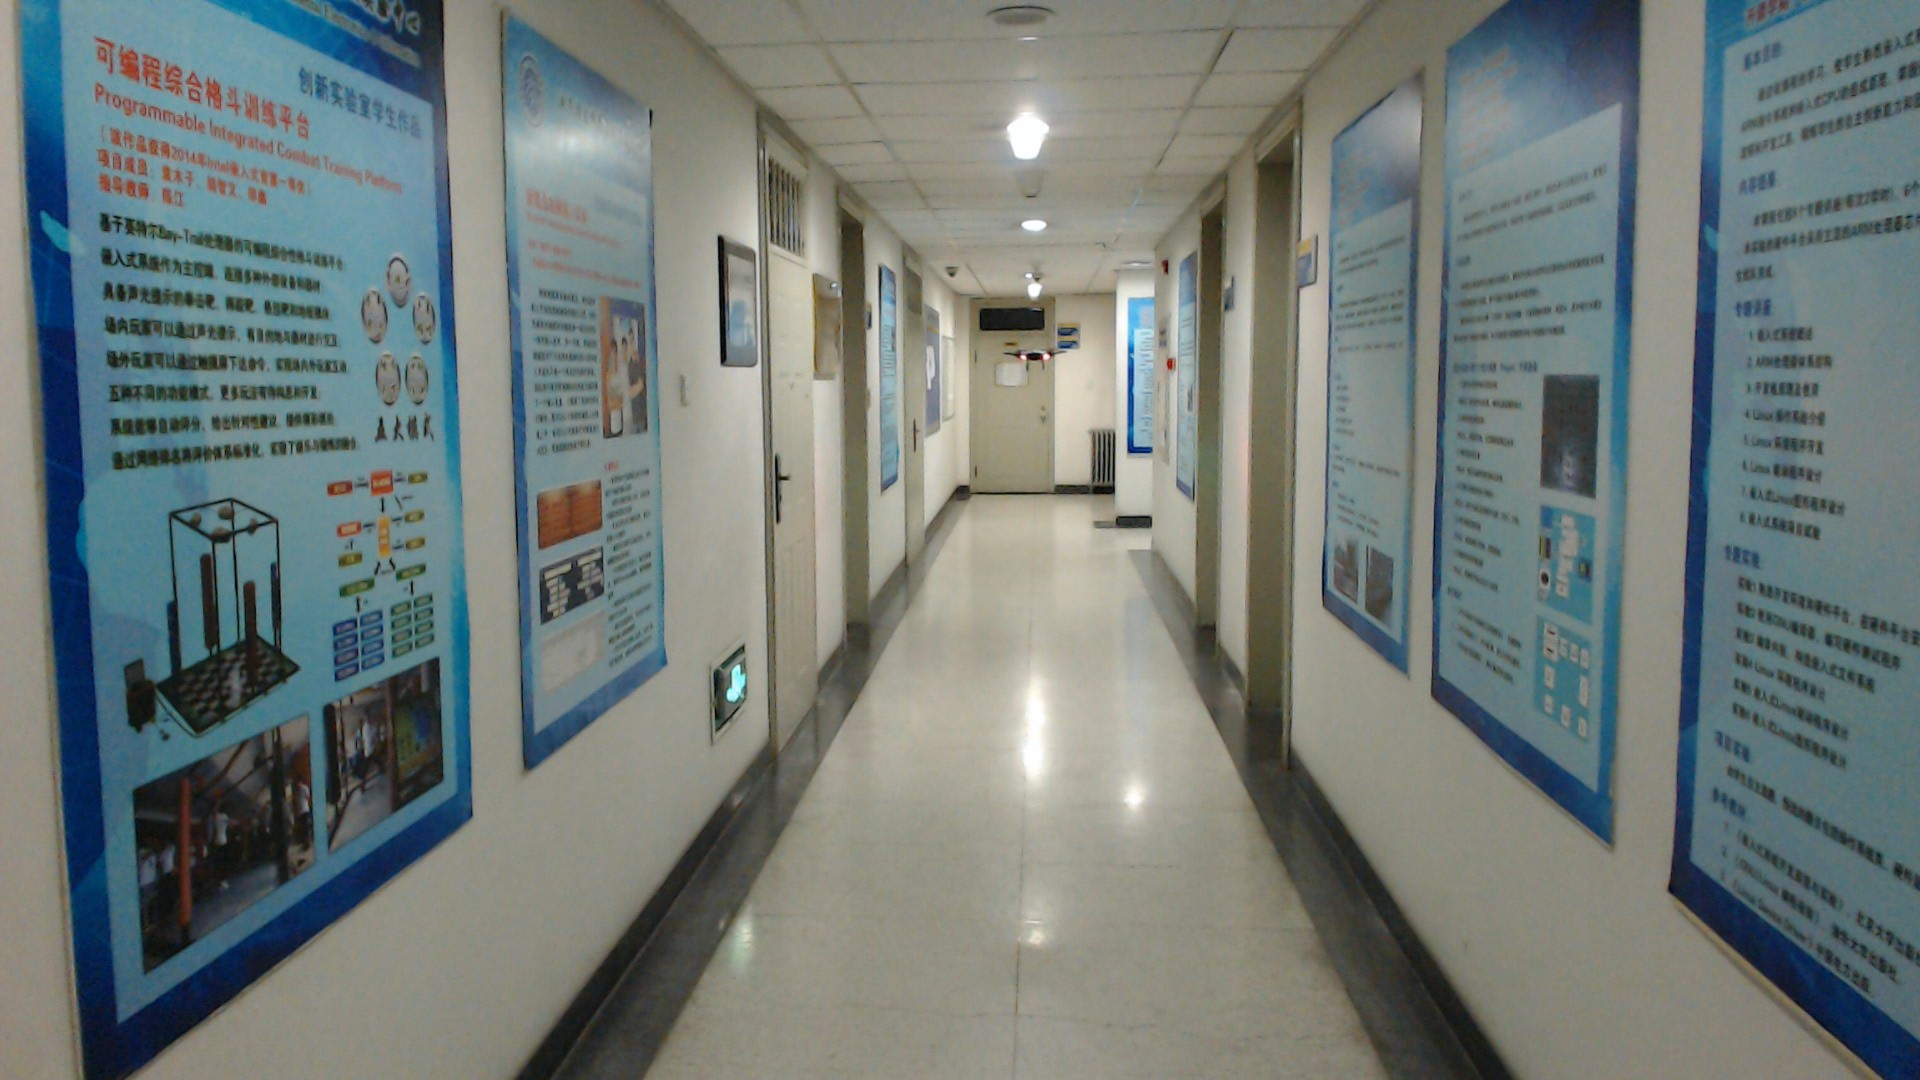test_drone: (997, 342, 1076, 375)
